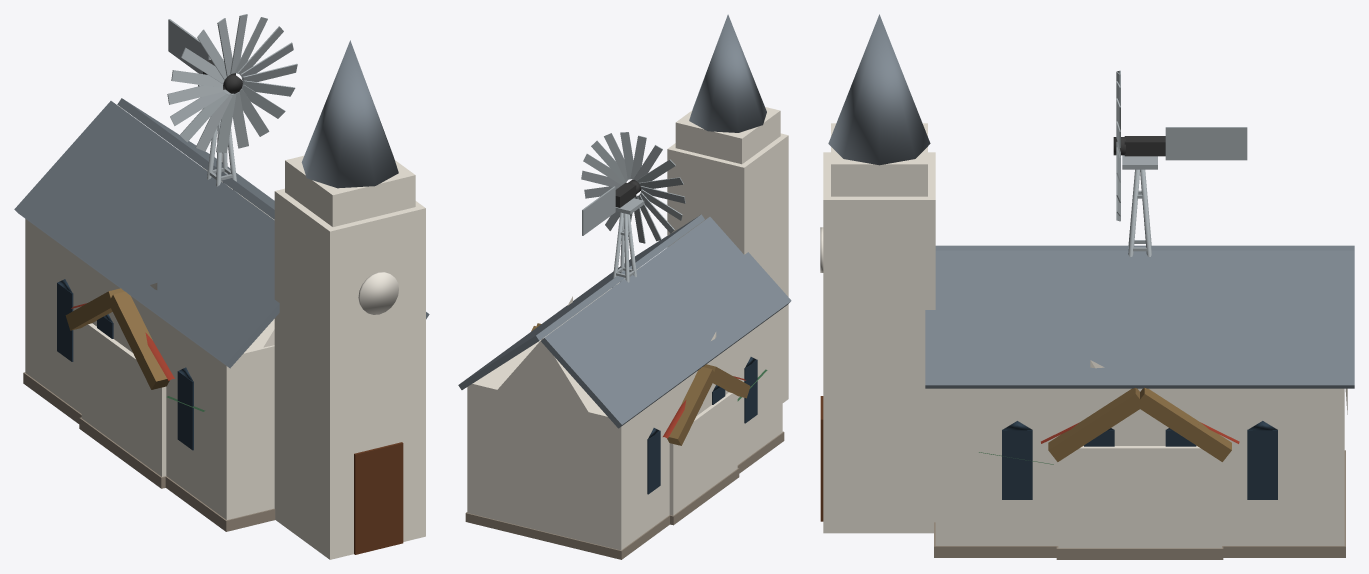
The model's file is dorp.glb.
The picture shows the model from 3 angles, left to right: view 1: azimuth 30°, elevation 25°; view 2: azimuth 150°, elevation 25°; view 3: azimuth 270°, elevation 25°; orthographic projection. The views are drawn at different scales.
Visible parts, largest first — view 1: kerk, huis2, rotor, windpomp, huis1; view 2: kerk, huis2, rotor, windpomp; view 3: kerk, huis2, windpomp, rotor.
Part boxes in pixels (box(x1,y1,x2,y2)): kerk: box(14, 40, 429, 559); huis2: box(65, 288, 169, 488); rotor: box(167, 14, 297, 152); windpomp: box(168, 19, 237, 193); huis1: box(71, 283, 205, 411); kerk: box(458, 14, 791, 559); huis2: box(531, 323, 750, 525); rotor: box(581, 132, 685, 243); windpomp: box(582, 182, 644, 287); kerk: box(820, 14, 1354, 557); huis2: box(1048, 387, 1231, 559); windpomp: box(1122, 127, 1247, 256); rotor: box(1113, 70, 1125, 221).
Size of the model in its own units: 5.1 by 10.78 by 10.46.
